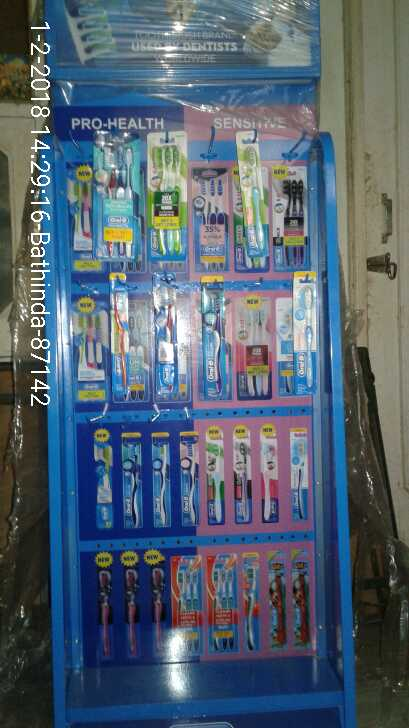oralb: (90, 126, 146, 261), (144, 137, 185, 253), (101, 277, 132, 398), (242, 135, 266, 258), (171, 561, 202, 654), (200, 292, 227, 397), (212, 558, 242, 652), (160, 277, 182, 401), (242, 557, 261, 658), (298, 285, 316, 388)
